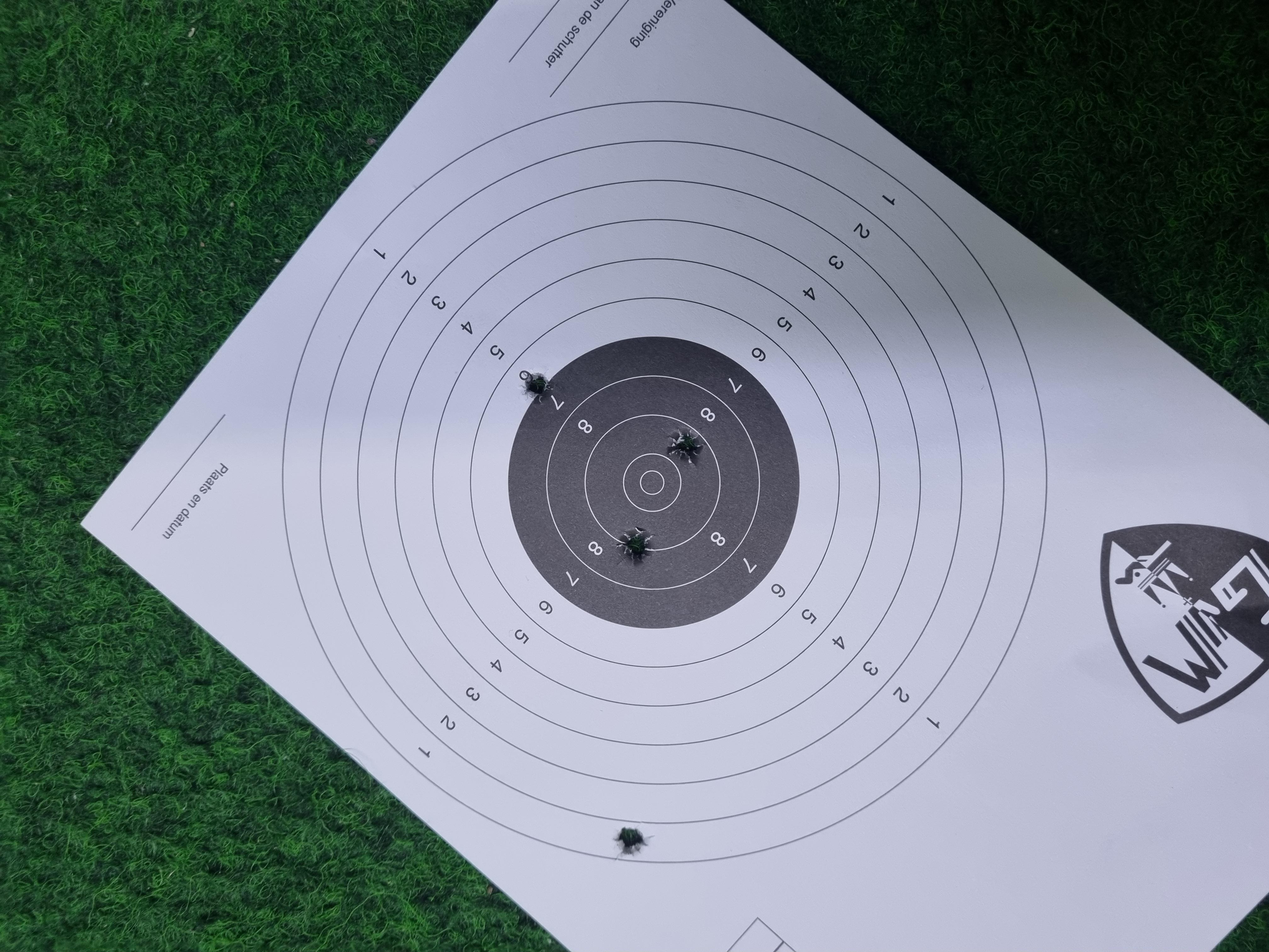hole: (120, 459, 175, 491), (513, 462, 565, 489), (647, 500, 698, 527), (729, 389, 777, 414)
